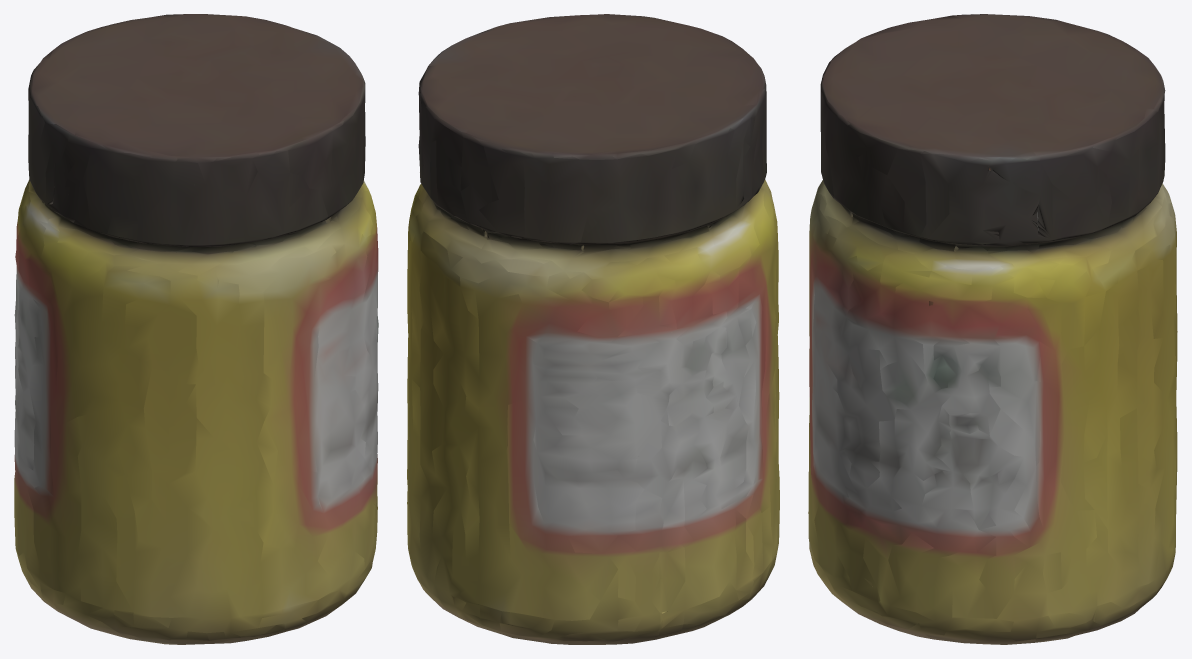
The model's file is 0004_mask_005_jar_with_black_lid.glb.
The picture shows the model from 3 angles, left to right: view 1: azimuth 30°, elevation 25°; view 2: azimuth 150°, elevation 25°; view 3: azimuth 270°, elevation 25°; orthographic projection.
Visible parts, largest first — view 1: mask_005_object; view 2: mask_005_object; view 3: mask_005_object.
Boxes of the visible parts, bbox=[...] form: mask_005_object: bbox=[14, 14, 378, 644]; mask_005_object: bbox=[407, 14, 779, 644]; mask_005_object: bbox=[808, 14, 1177, 644].
Size of the model in its own units: 0.1128 by 0.1685 by 0.1134.
